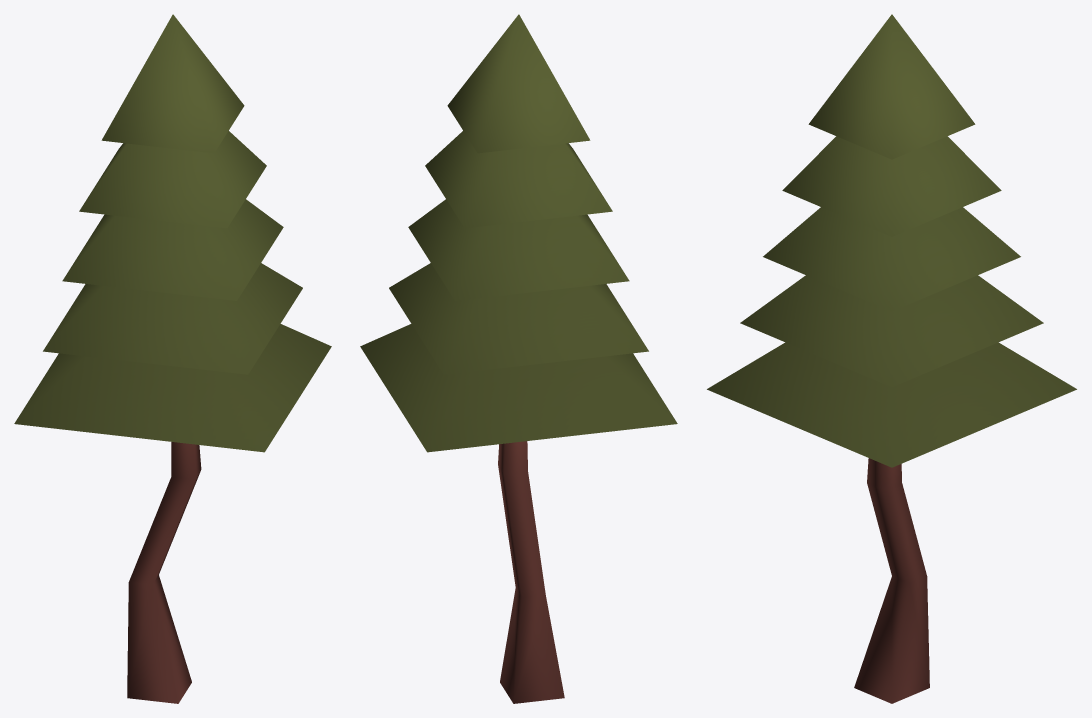
Rendered from Tree.002.fbx.
The picture shows the model from 3 angles, left to right: view 1: azimuth 30°, elevation 25°; view 2: azimuth 150°, elevation 25°; view 3: azimuth 270°, elevation 25°; orthographic projection.
Parts seen in each view (by area): view 1: Tree.002; view 2: Tree.002; view 3: Tree.002.
Part boxes in pixels (left/top/right/bottom): Tree.002: left=14, top=14, right=331, bottom=703; Tree.002: left=360, top=14, right=677, bottom=703; Tree.002: left=707, top=14, right=1076, bottom=703.
Size of the model in its own units: 279 by 565 by 279.
